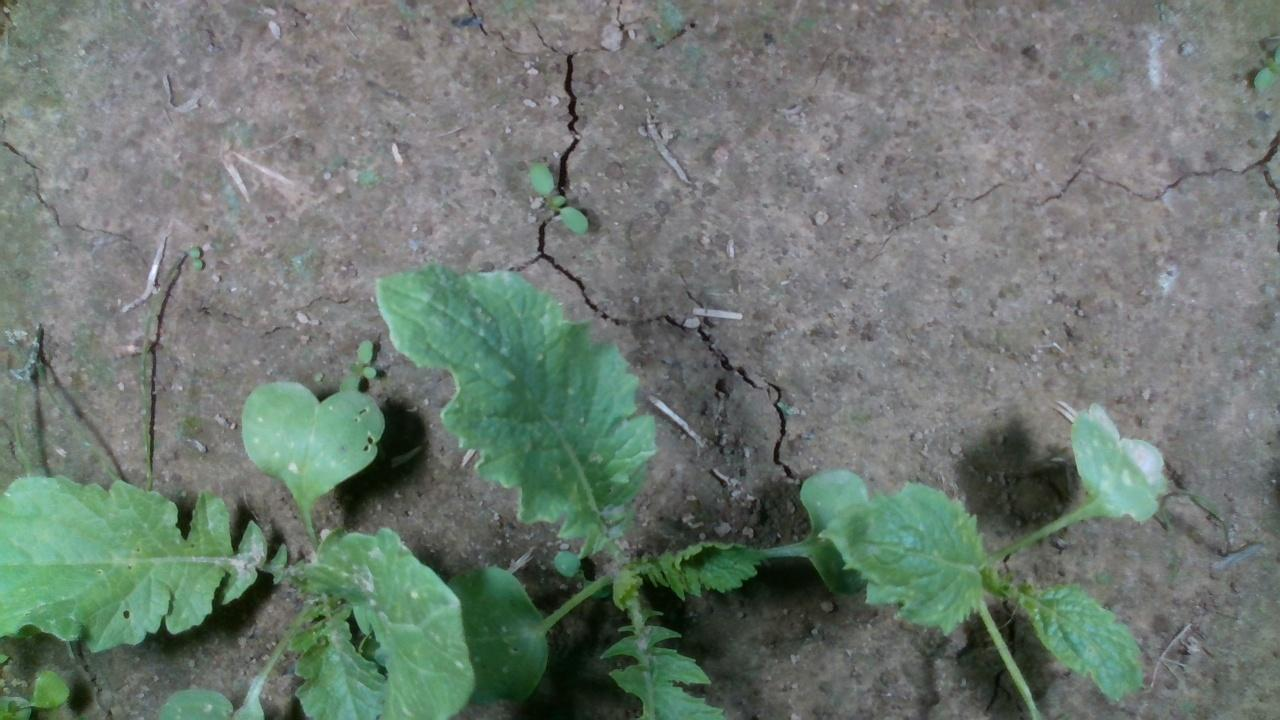weed: (525, 161, 589, 232)
